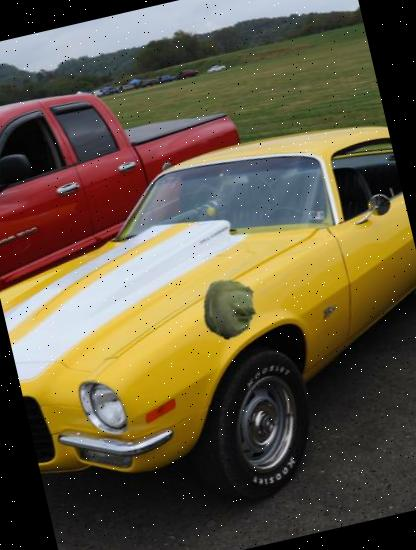Kohlrabi: (194, 273, 266, 345)
